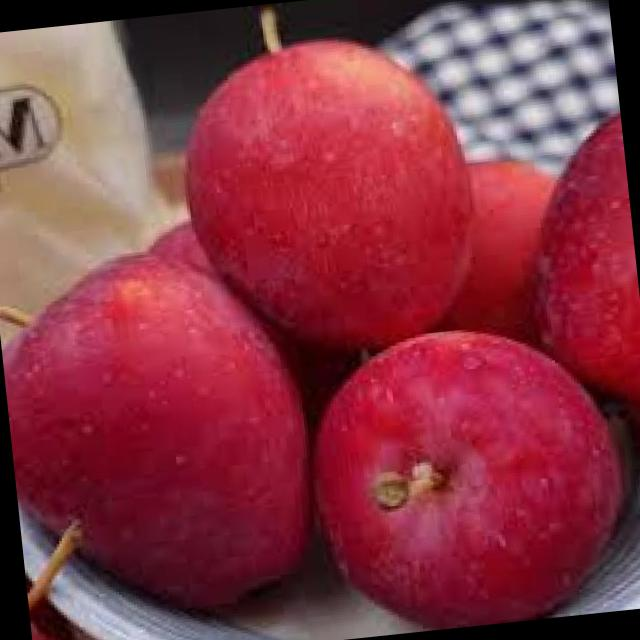Apple: (0, 233, 327, 626), (166, 0, 489, 365), (298, 310, 640, 637), (511, 101, 640, 452), (437, 150, 576, 341), (140, 217, 218, 284)
